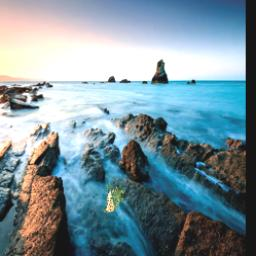Sparrow: (105, 184, 126, 214)
